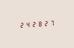eight: (36, 20, 41, 27)
four: (23, 20, 28, 28)
seven: (48, 19, 53, 26)
two: (30, 20, 35, 28), (42, 19, 47, 27), (17, 21, 22, 28)
